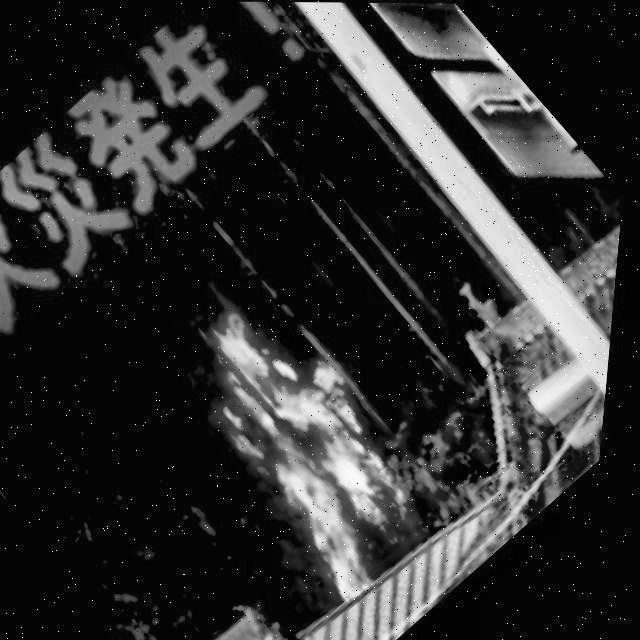Fire: (118, 260, 491, 614)
